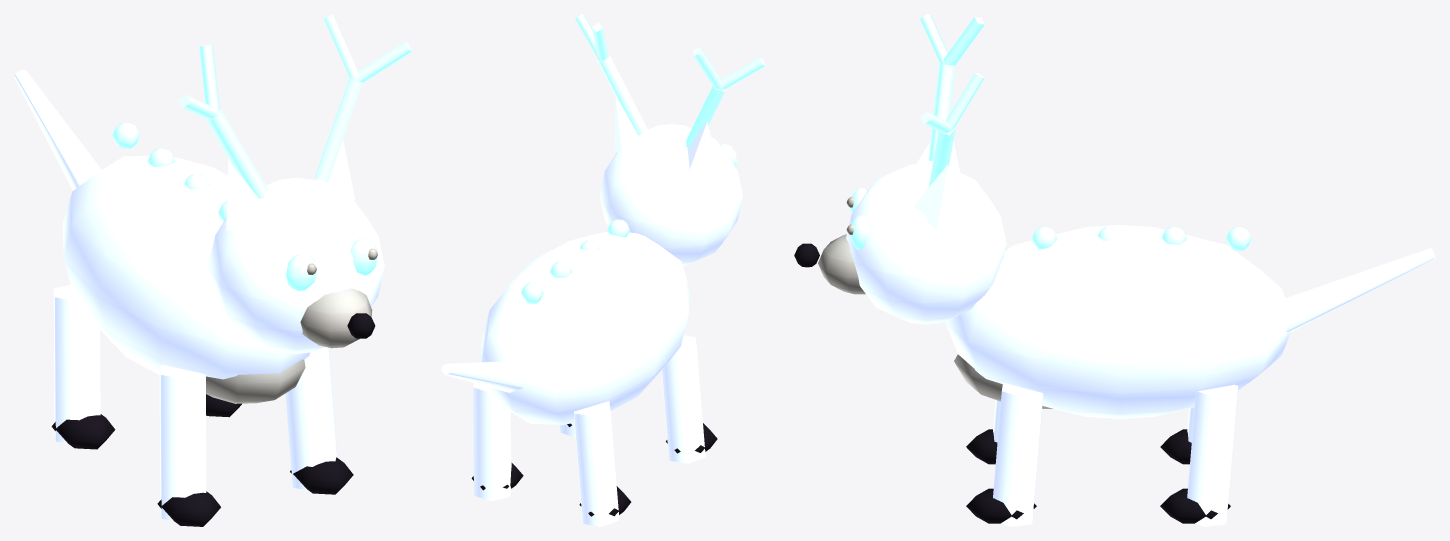
File: monster_spirit_stag.glb
The picture shows the model from 3 angles, left to right: view 1: azimuth 30°, elevation 25°; view 2: azimuth 150°, elevation 25°; view 3: azimuth 270°, elevation 25°; orthographic projection. The views are drawn at different scales.
Parts seen in each view (by area): view 1: body_t0_ghost, legl_t0_ghost, body_t0_glow_teal, body_t0_palette, legr_t0_ghost, tail_t0_ghost, legl_t0_palette, legr_t0_palette; view 2: body_t0_ghost, legl_t0_ghost, body_t0_glow_teal, legr_t0_ghost, tail_t0_ghost, legl_t0_palette; view 3: body_t0_ghost, legr_t0_ghost, body_t0_glow_teal, tail_t0_ghost, body_t0_palette, legr_t0_palette, legl_t0_palette.
Part boxes in pixels (bbox=[...]): body_t0_ghost: bbox=[62, 140, 384, 379]; legl_t0_ghost: bbox=[53, 284, 206, 520]; body_t0_glow_teal: bbox=[112, 14, 412, 291]; body_t0_palette: bbox=[206, 248, 377, 403]; legr_t0_ghost: bbox=[285, 347, 337, 490]; tail_t0_ghost: bbox=[14, 69, 101, 190]; legl_t0_palette: bbox=[51, 414, 220, 526]; legr_t0_palette: bbox=[206, 394, 353, 494]; body_t0_ghost: bbox=[480, 99, 742, 424]; legl_t0_ghost: bbox=[574, 335, 705, 526]; body_t0_glow_teal: bbox=[521, 14, 765, 303]; legr_t0_ghost: bbox=[473, 383, 575, 501]; tail_t0_ghost: bbox=[441, 361, 525, 392]; legl_t0_palette: bbox=[579, 423, 717, 516]; body_t0_ghost: bbox=[846, 141, 1290, 418]; legr_t0_ghost: bbox=[993, 382, 1238, 526]; body_t0_glow_teal: bbox=[850, 14, 1251, 250]; tail_t0_ghost: bbox=[1282, 248, 1435, 331]; body_t0_palette: bbox=[794, 197, 1053, 408]; legr_t0_palette: bbox=[966, 488, 1230, 523]; legl_t0_palette: bbox=[966, 429, 1191, 464].
Bounding box in the file's own units: 0.226 × 0.4564 × 0.5945.
